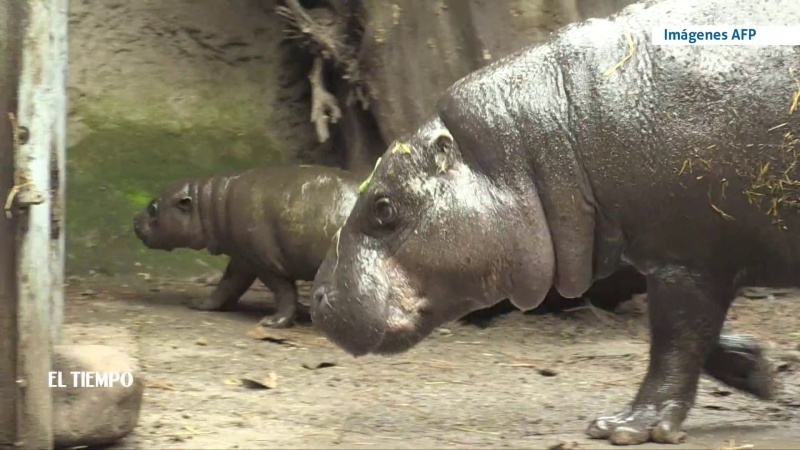hipopotamo: (304, 1, 798, 450), (116, 153, 386, 345)
